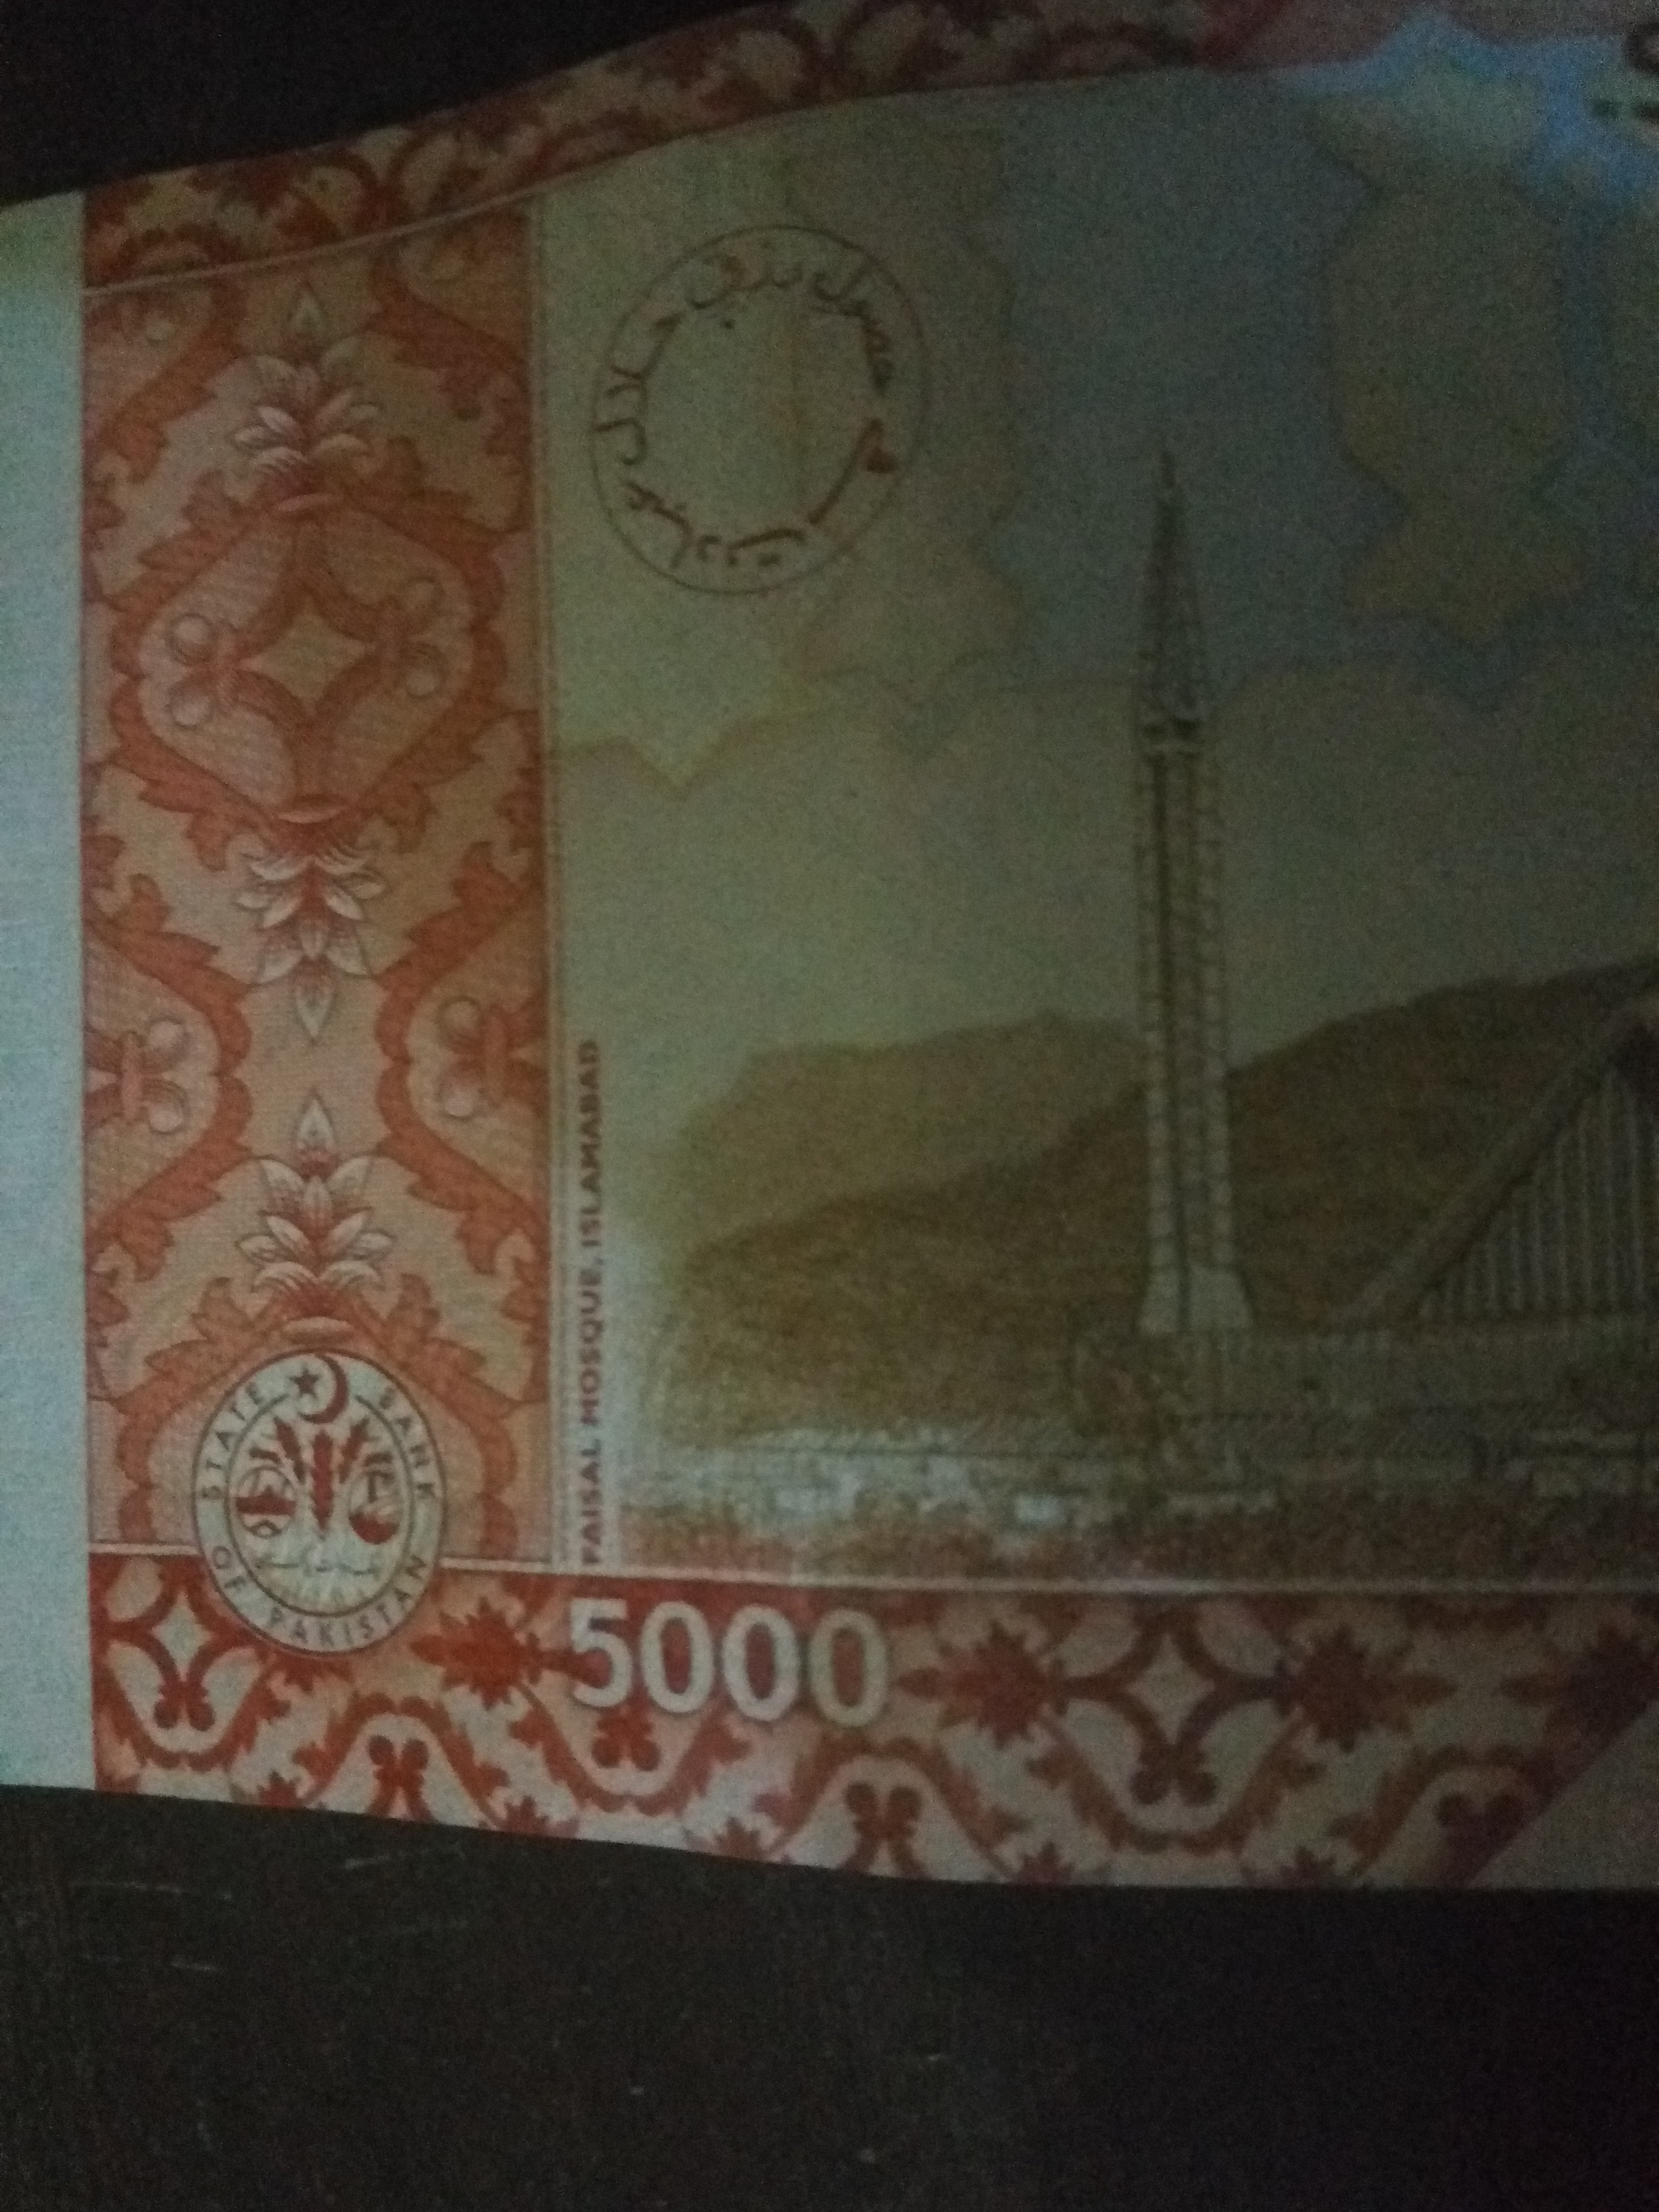5000 rupee: (35, 132, 1560, 1986)
